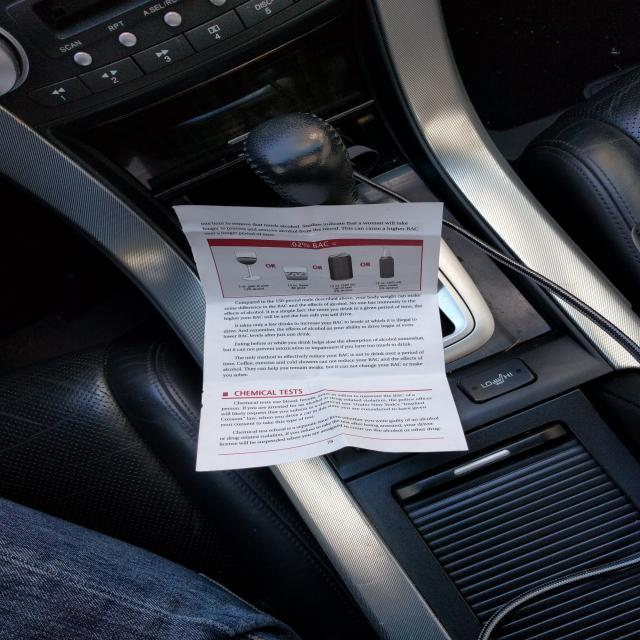document: (175, 204, 467, 471)
